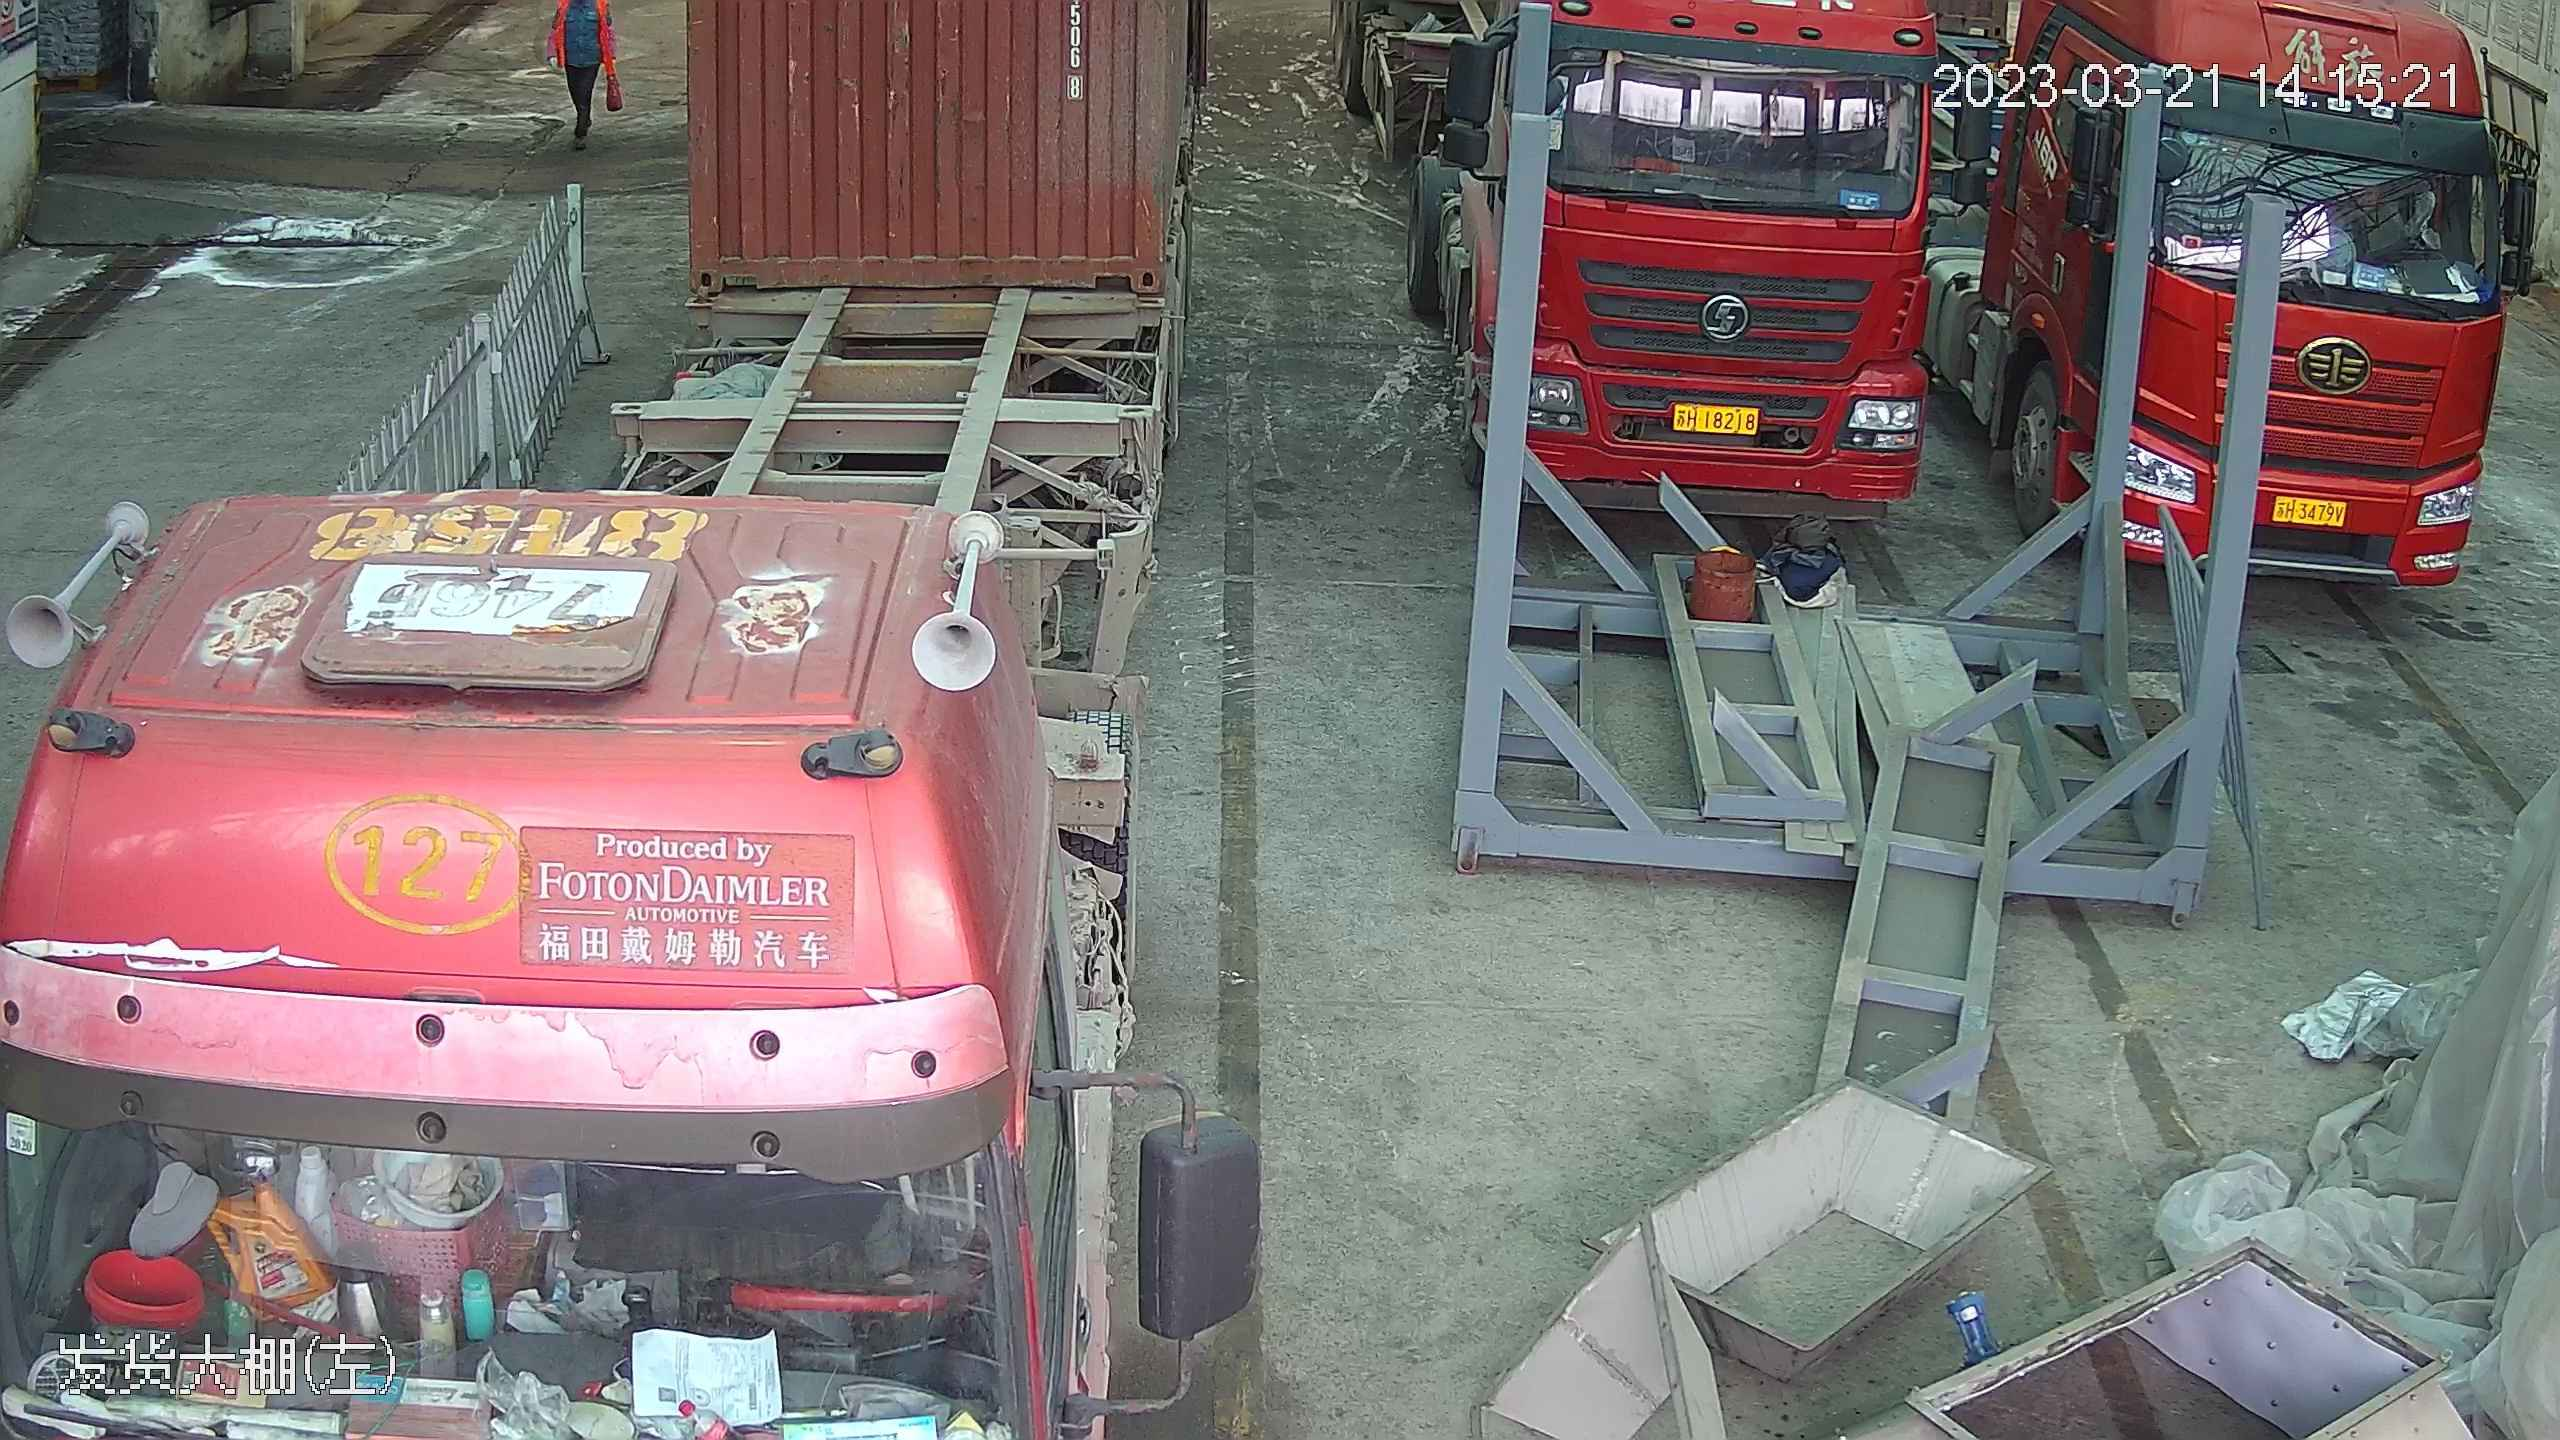people: (545, 0, 610, 143)
truck: (0, 0, 1163, 1440), (1989, 4, 2547, 593), (1485, 0, 1956, 527)
